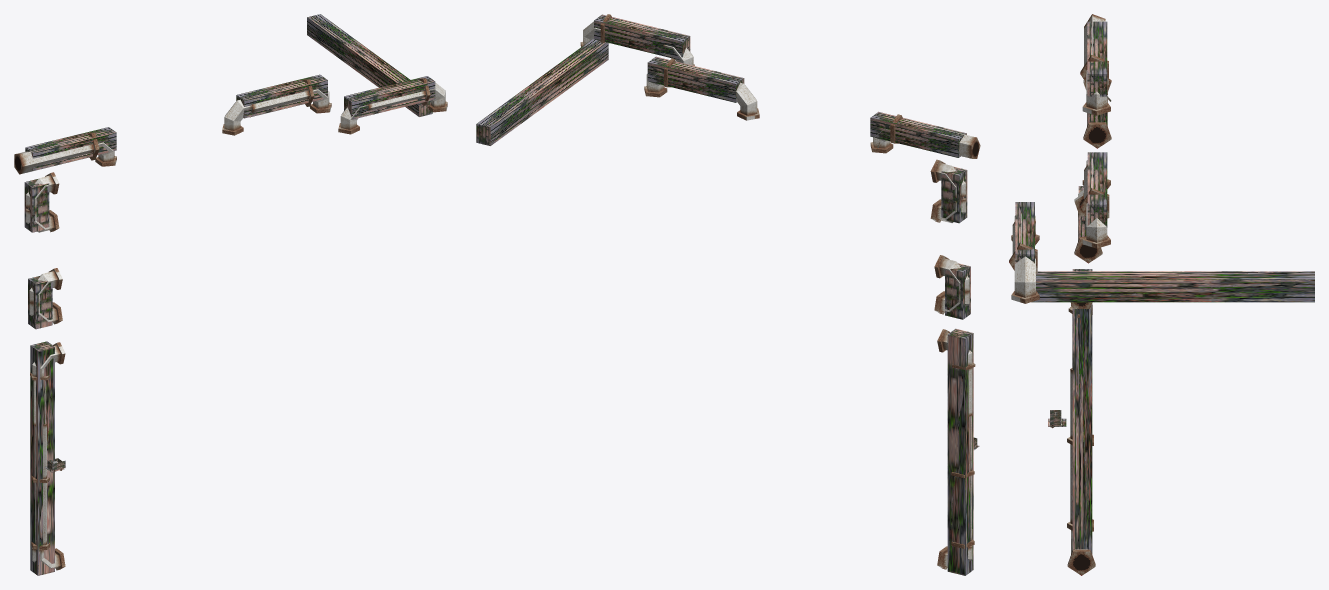
File: Lvl1_Environment.fbx
The picture shows the model from 3 angles, left to right: view 1: azimuth 30°, elevation 25°; view 2: azimuth 150°, elevation 25°; view 3: azimuth 270°, elevation 25°; orthographic projection. The views are drawn at different scales.
Visible parts, largest first — view 1: Plataforma1, madera__1_, Plataforma6, Plataforma5, Plataforma4, Pipe_Long__4_, Plataforma3, Plataforma2, Pipe_Long__5_, Pipe_Corner__2__1, Pipe_Long__6__1; view 2: Plataforma1, madera__1_, Plataforma5, Plataforma6, Plataforma4, Plataforma3, Plataforma2, Pipe_Long__4_, Pipe_Corner__2__1; view 3: madera__1_, Plataforma1, Plataforma4, Plataforma5, Plataforma6, Pipe_Corner__3__1, Pipe_Corner__1__1, Pipe_Corner, Pipe_Corner__4_, Pipe_Corner_1, Pipe_Long__4_, Pipe_Corner__2_ (+2 smaller).
Boxes of the visible parts, bbox=[...] form: Plataforma1: bbox=[30, 341, 54, 575]; madera__1_: bbox=[307, 14, 432, 116]; Plataforma6: bbox=[344, 76, 435, 119]; Plataforma5: bbox=[236, 74, 327, 118]; Plataforma4: bbox=[25, 127, 116, 170]; Pipe_Long__4_: bbox=[14, 132, 99, 174]; Plataforma3: bbox=[24, 179, 49, 232]; Plataforma2: bbox=[28, 276, 52, 329]; Pipe_Long__5_: bbox=[250, 79, 314, 117]; Pipe_Corner__2__1: bbox=[222, 99, 252, 135]; Pipe_Long__6__1: bbox=[366, 78, 430, 110]; Plataforma1: bbox=[947, 328, 973, 575]; madera__1_: bbox=[476, 39, 608, 145]; Plataforma5: bbox=[647, 56, 744, 102]; Plataforma6: bbox=[594, 14, 690, 60]; Plataforma4: bbox=[870, 111, 966, 157]; Plataforma3: bbox=[941, 166, 967, 223]; Plataforma2: bbox=[945, 263, 970, 319]; Pipe_Long__4_: bbox=[890, 114, 980, 158]; Pipe_Corner__2__1: bbox=[727, 83, 759, 120]; madera__1_: bbox=[1031, 271, 1314, 302]; Plataforma1: bbox=[1072, 269, 1092, 553]; Plataforma4: bbox=[1087, 21, 1107, 96]; Plataforma5: bbox=[1087, 152, 1107, 227]; Plataforma6: bbox=[1015, 202, 1034, 263]; Pipe_Corner__3__1: bbox=[1011, 256, 1039, 303]; Pipe_Corner__1__1: bbox=[1082, 203, 1110, 248]; Pipe_Corner: bbox=[1067, 530, 1095, 575]; Pipe_Corner__4_: bbox=[1083, 99, 1111, 148]; Pipe_Corner_1: bbox=[1082, 70, 1110, 115]; Pipe_Long__4_: bbox=[1080, 14, 1108, 85]; Pipe_Corner__2_: bbox=[1074, 214, 1102, 263].
Size of the model in its own units: 2434 by 4730 by 4780.
